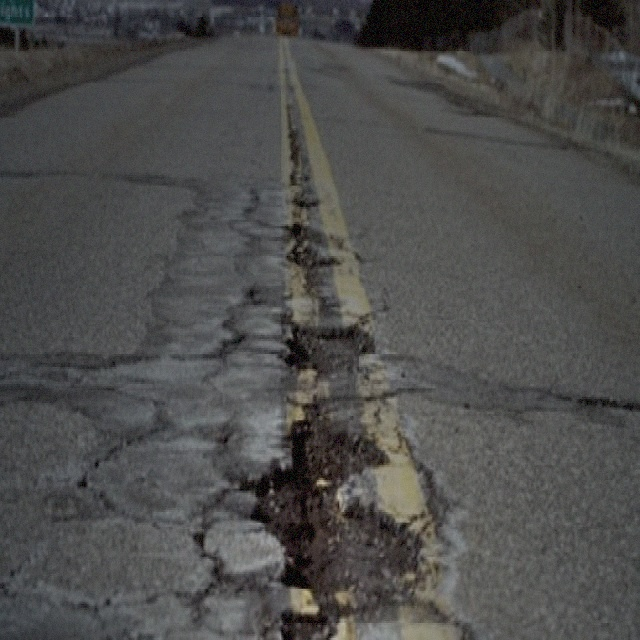pothole: (248, 416, 414, 638), (281, 318, 378, 373)
